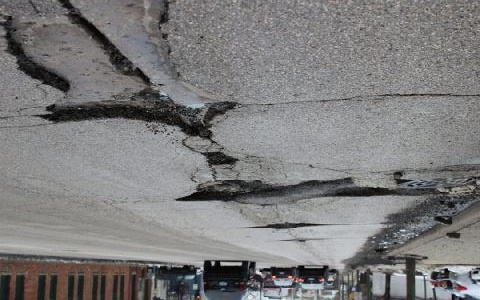pothole: (1, 0, 243, 140), (173, 177, 265, 205), (324, 185, 438, 201), (199, 150, 241, 168), (253, 221, 319, 230)
